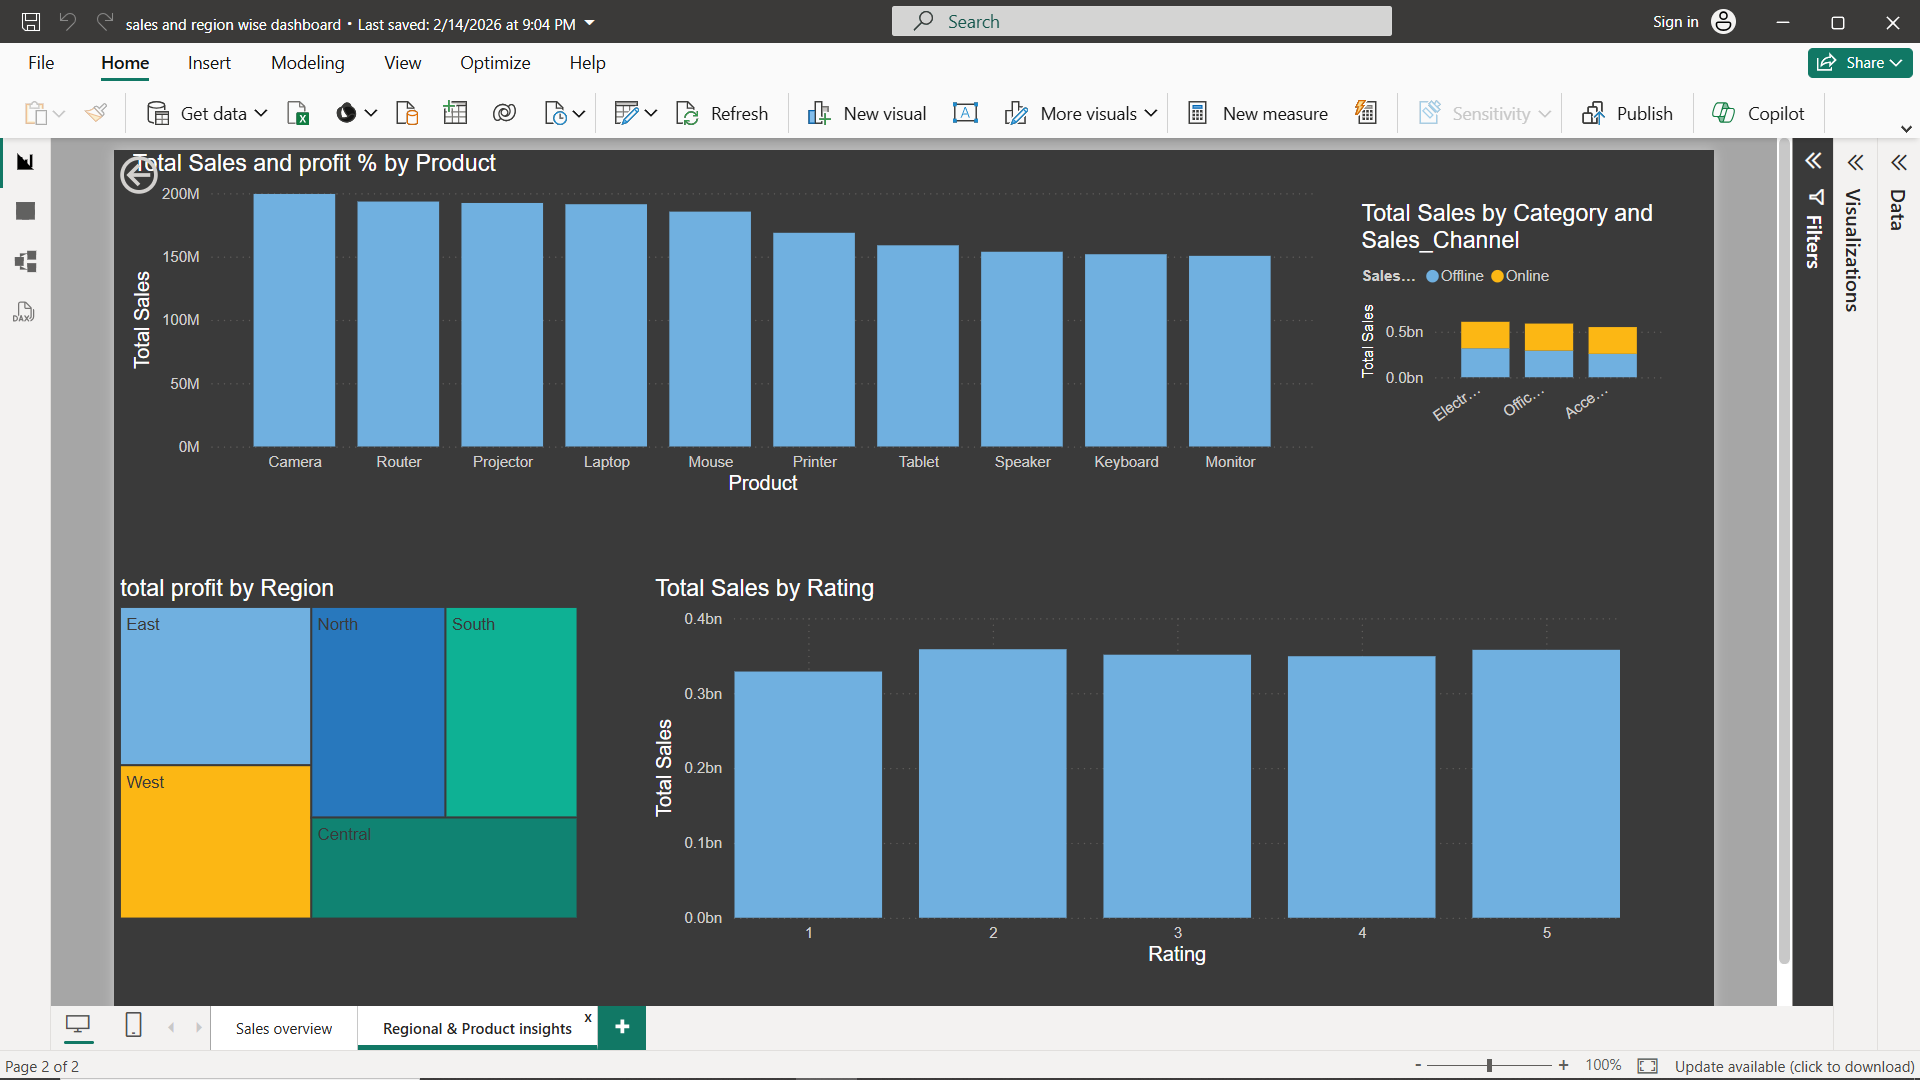

Layout of this report page (visuals, bound fields, positions):
{"tool":"powerbi","page":{"name":"Regional & Product insights","canvas":[1280,720],"ordinal":1},"visuals":[{"type":"clusteredColumnChart","fields":{"Category":["Sheet1.Product"],"Y":["Sheet1.Total Sales"]},"box":[9.6,0,955.1,279.9],"z":0},{"type":"treemap","fields":{"Group":["Sheet1.Region"],"Values":["Sheet1.total profit"]},"box":[0,340.3,376,279.9],"z":1000},{"type":"actionButton","box":[0,0,100,40],"z":2000},{"type":"columnChart","fields":{"Category":["Sheet1.Category"],"Series":["Sheet1.Sales_Channel"],"Y":["Sheet1.Total Sales"]},"box":[993.5,39.8,252.5,189.4],"z":3000},{"type":"columnChart","fields":{"Category":["Sheet1.Rating"],"Y":["Sheet1.Total Sales"]},"box":[428.1,340.3,782.2,317],"z":4000}]}

Visuals, with their boxes on the page's 1280x720 design canvas (x1, y1, x2, y2). These are canvas units, not pixel positions in the 1920x1080 screenshot, which may show the page scaled, cropped or inside an application window:
clusteredColumnChart - Sheet1.Product x Sheet1.Total Sales: 10:0:965:280
treemap - Sheet1.Region x Sheet1.total profit: 0:340:376:620
actionButton: 0:0:100:40
columnChart - Sheet1.Category x Sheet1.Sales_Channel: 994:40:1246:229
columnChart - Sheet1.Rating x Sheet1.Total Sales: 428:340:1210:657
